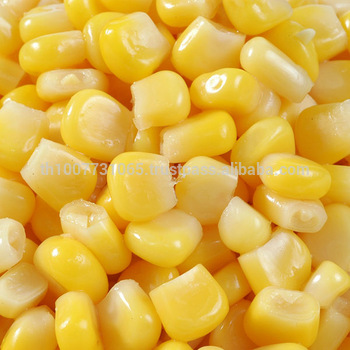corn: (149, 262, 230, 343), (21, 138, 96, 213), (59, 199, 132, 275), (60, 89, 134, 161), (242, 285, 321, 349), (98, 11, 166, 84), (240, 36, 313, 102), (108, 153, 178, 219), (159, 111, 237, 161)
